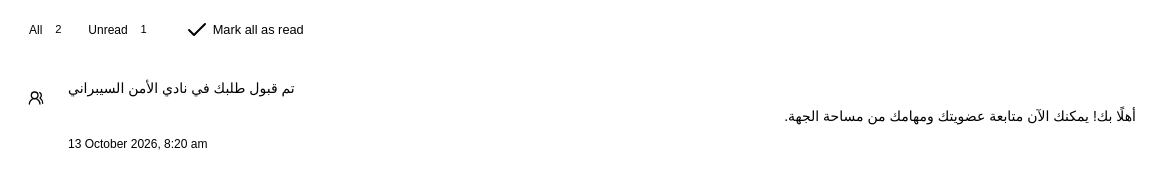
uses the prefetched unread list without navigating again
The image size is (1152, 173).
Click the tab "Unread 1" at (121, 30), box [78,16,164,44]
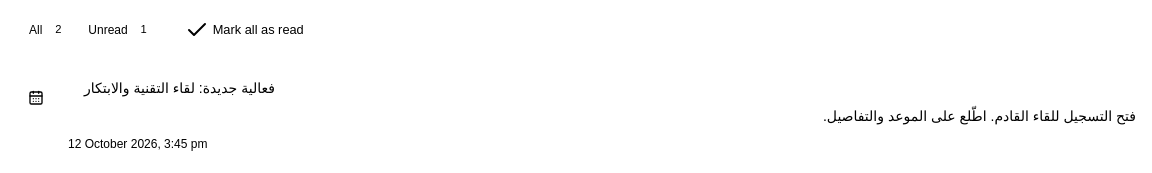
Expected: the list named "Notifications" shows "فعالية جديدة: لقاء التقنية والابتكار", [12,72,1140,156]
